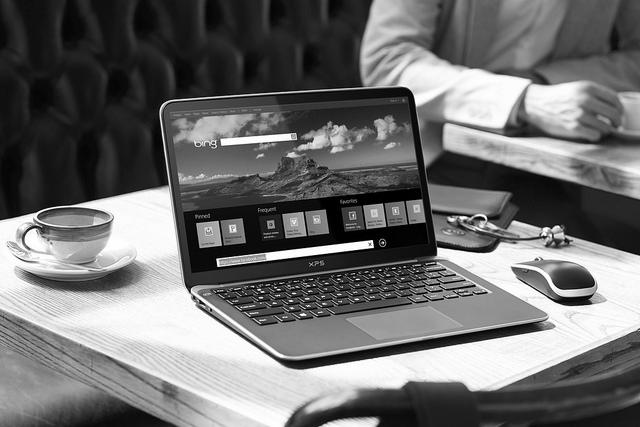cup: (3, 204, 145, 287)
